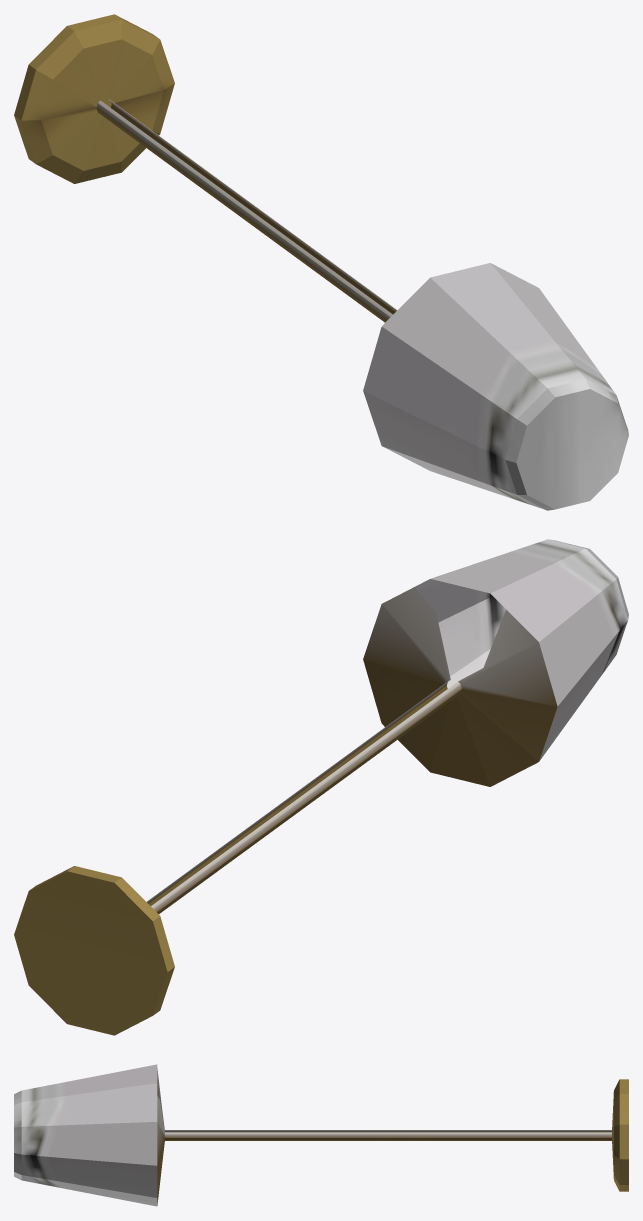
Rendered from pz_lamp_58.obj.
The picture shows the model from 3 angles, top to bottom: view 1: azimuth 30°, elevation 25°; view 2: azimuth 150°, elevation 25°; view 3: azimuth 270°, elevation 25°; orthographic projection. The views are drawn at different scales.
Bounding box in the file's own units: 0.38 × 0.3614 × 1.63.
Materials: 1 (1 with a texture image).
